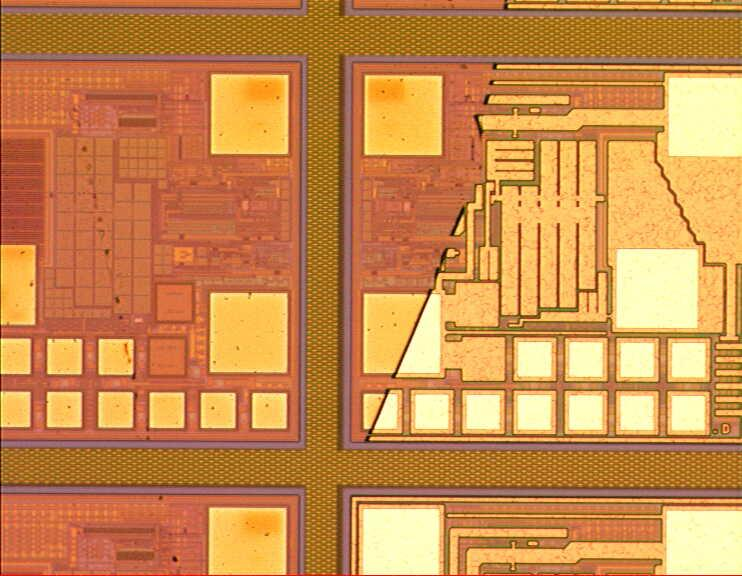COATING BAD: (365, 1, 742, 444)
